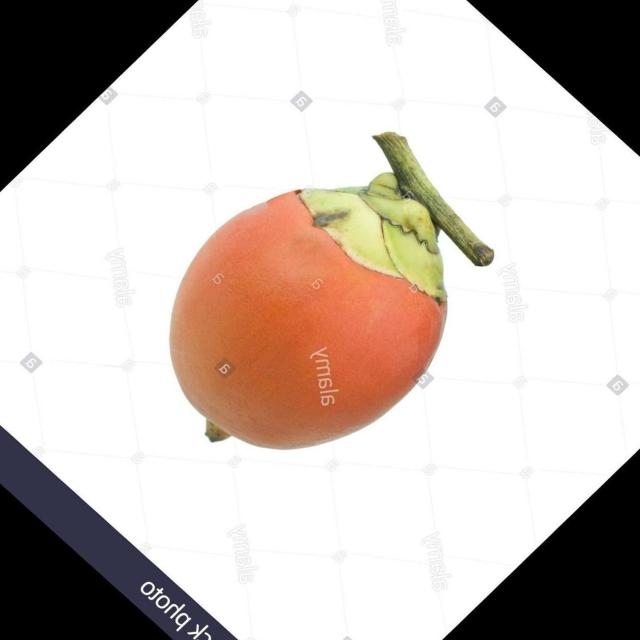good: (168, 133, 495, 454)
